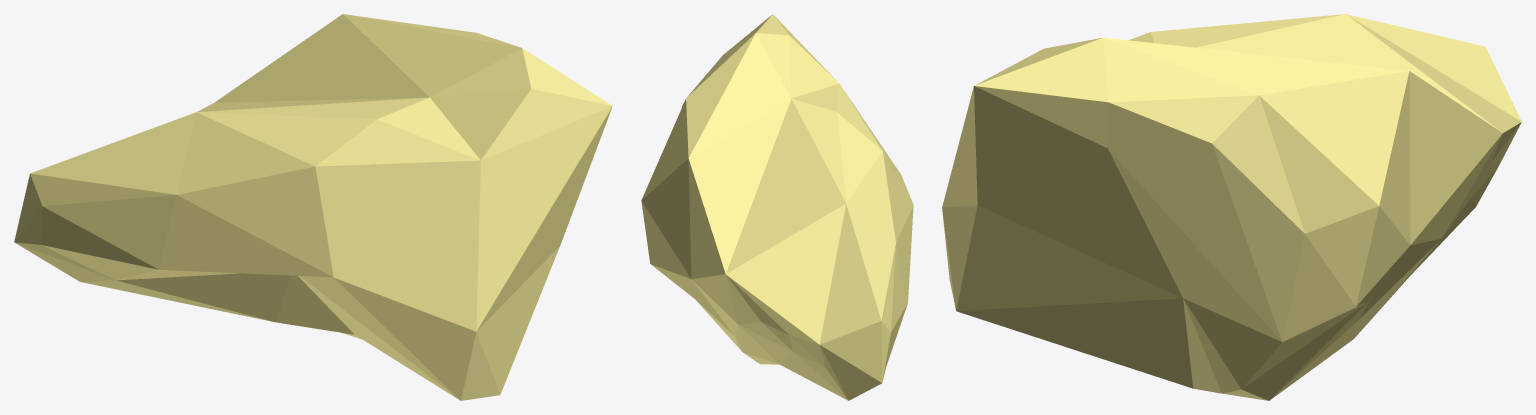
File: Hill_005.glb
The picture shows the model from 3 angles, left to right: view 1: azimuth 30°, elevation 25°; view 2: azimuth 150°, elevation 25°; view 3: azimuth 270°, elevation 25°; orthographic projection. The views are drawn at different scales.
Parts seen in each view (by area): view 1: Hill_005; view 2: Hill_005; view 3: Hill_005.
Part boxes in pixels (x1,y1,x2,y2): Hill_005: (14,14,612,400); Hill_005: (641,14,913,400); Hill_005: (942,14,1521,400).
Bounding box in the file's own units: 0.5315 × 0.455 × 0.6071.
1 material, 1 textured.
